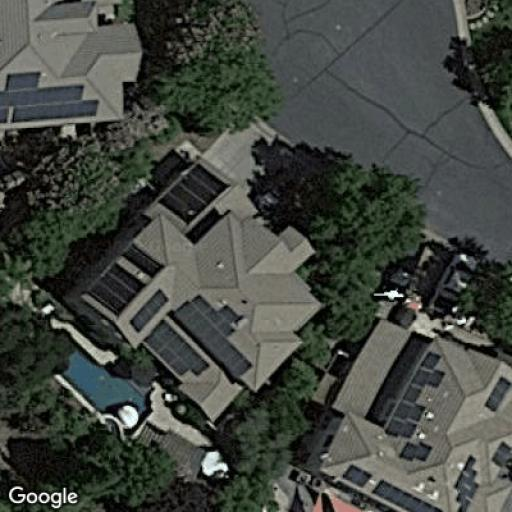solar-panel: (164, 290, 258, 382), (86, 243, 172, 332), (382, 350, 453, 440), (340, 458, 447, 512), (0, 69, 105, 122), (141, 318, 210, 388), (158, 157, 230, 222), (453, 451, 483, 512), (478, 372, 512, 412), (487, 437, 512, 485), (398, 436, 436, 466)
